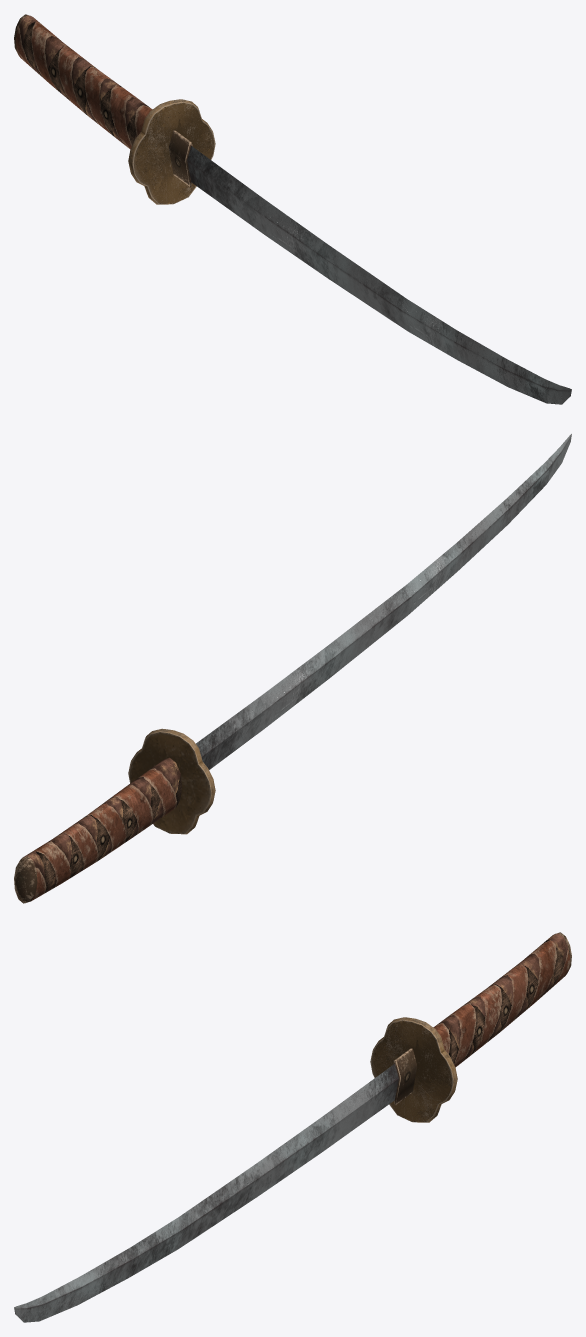
The model's file is weapon_sword_test.fbx.
3 renders of one model, top to bottom at view 1: azimuth 30°, elevation 25°; view 2: azimuth 150°, elevation 25°; view 3: azimuth 330°, elevation 25°, orthographic.
Parts seen in each view (by area): view 1: weapon_sword; view 2: weapon_sword; view 3: weapon_sword.
Part boxes in pixels (<box>): weapon_sword: <box>14,14,571,404</box>; weapon_sword: <box>14,434,571,903</box>; weapon_sword: <box>14,932,571,1322</box>.
Size of the model in its own units: 16.17 by 19.34 by 179.
